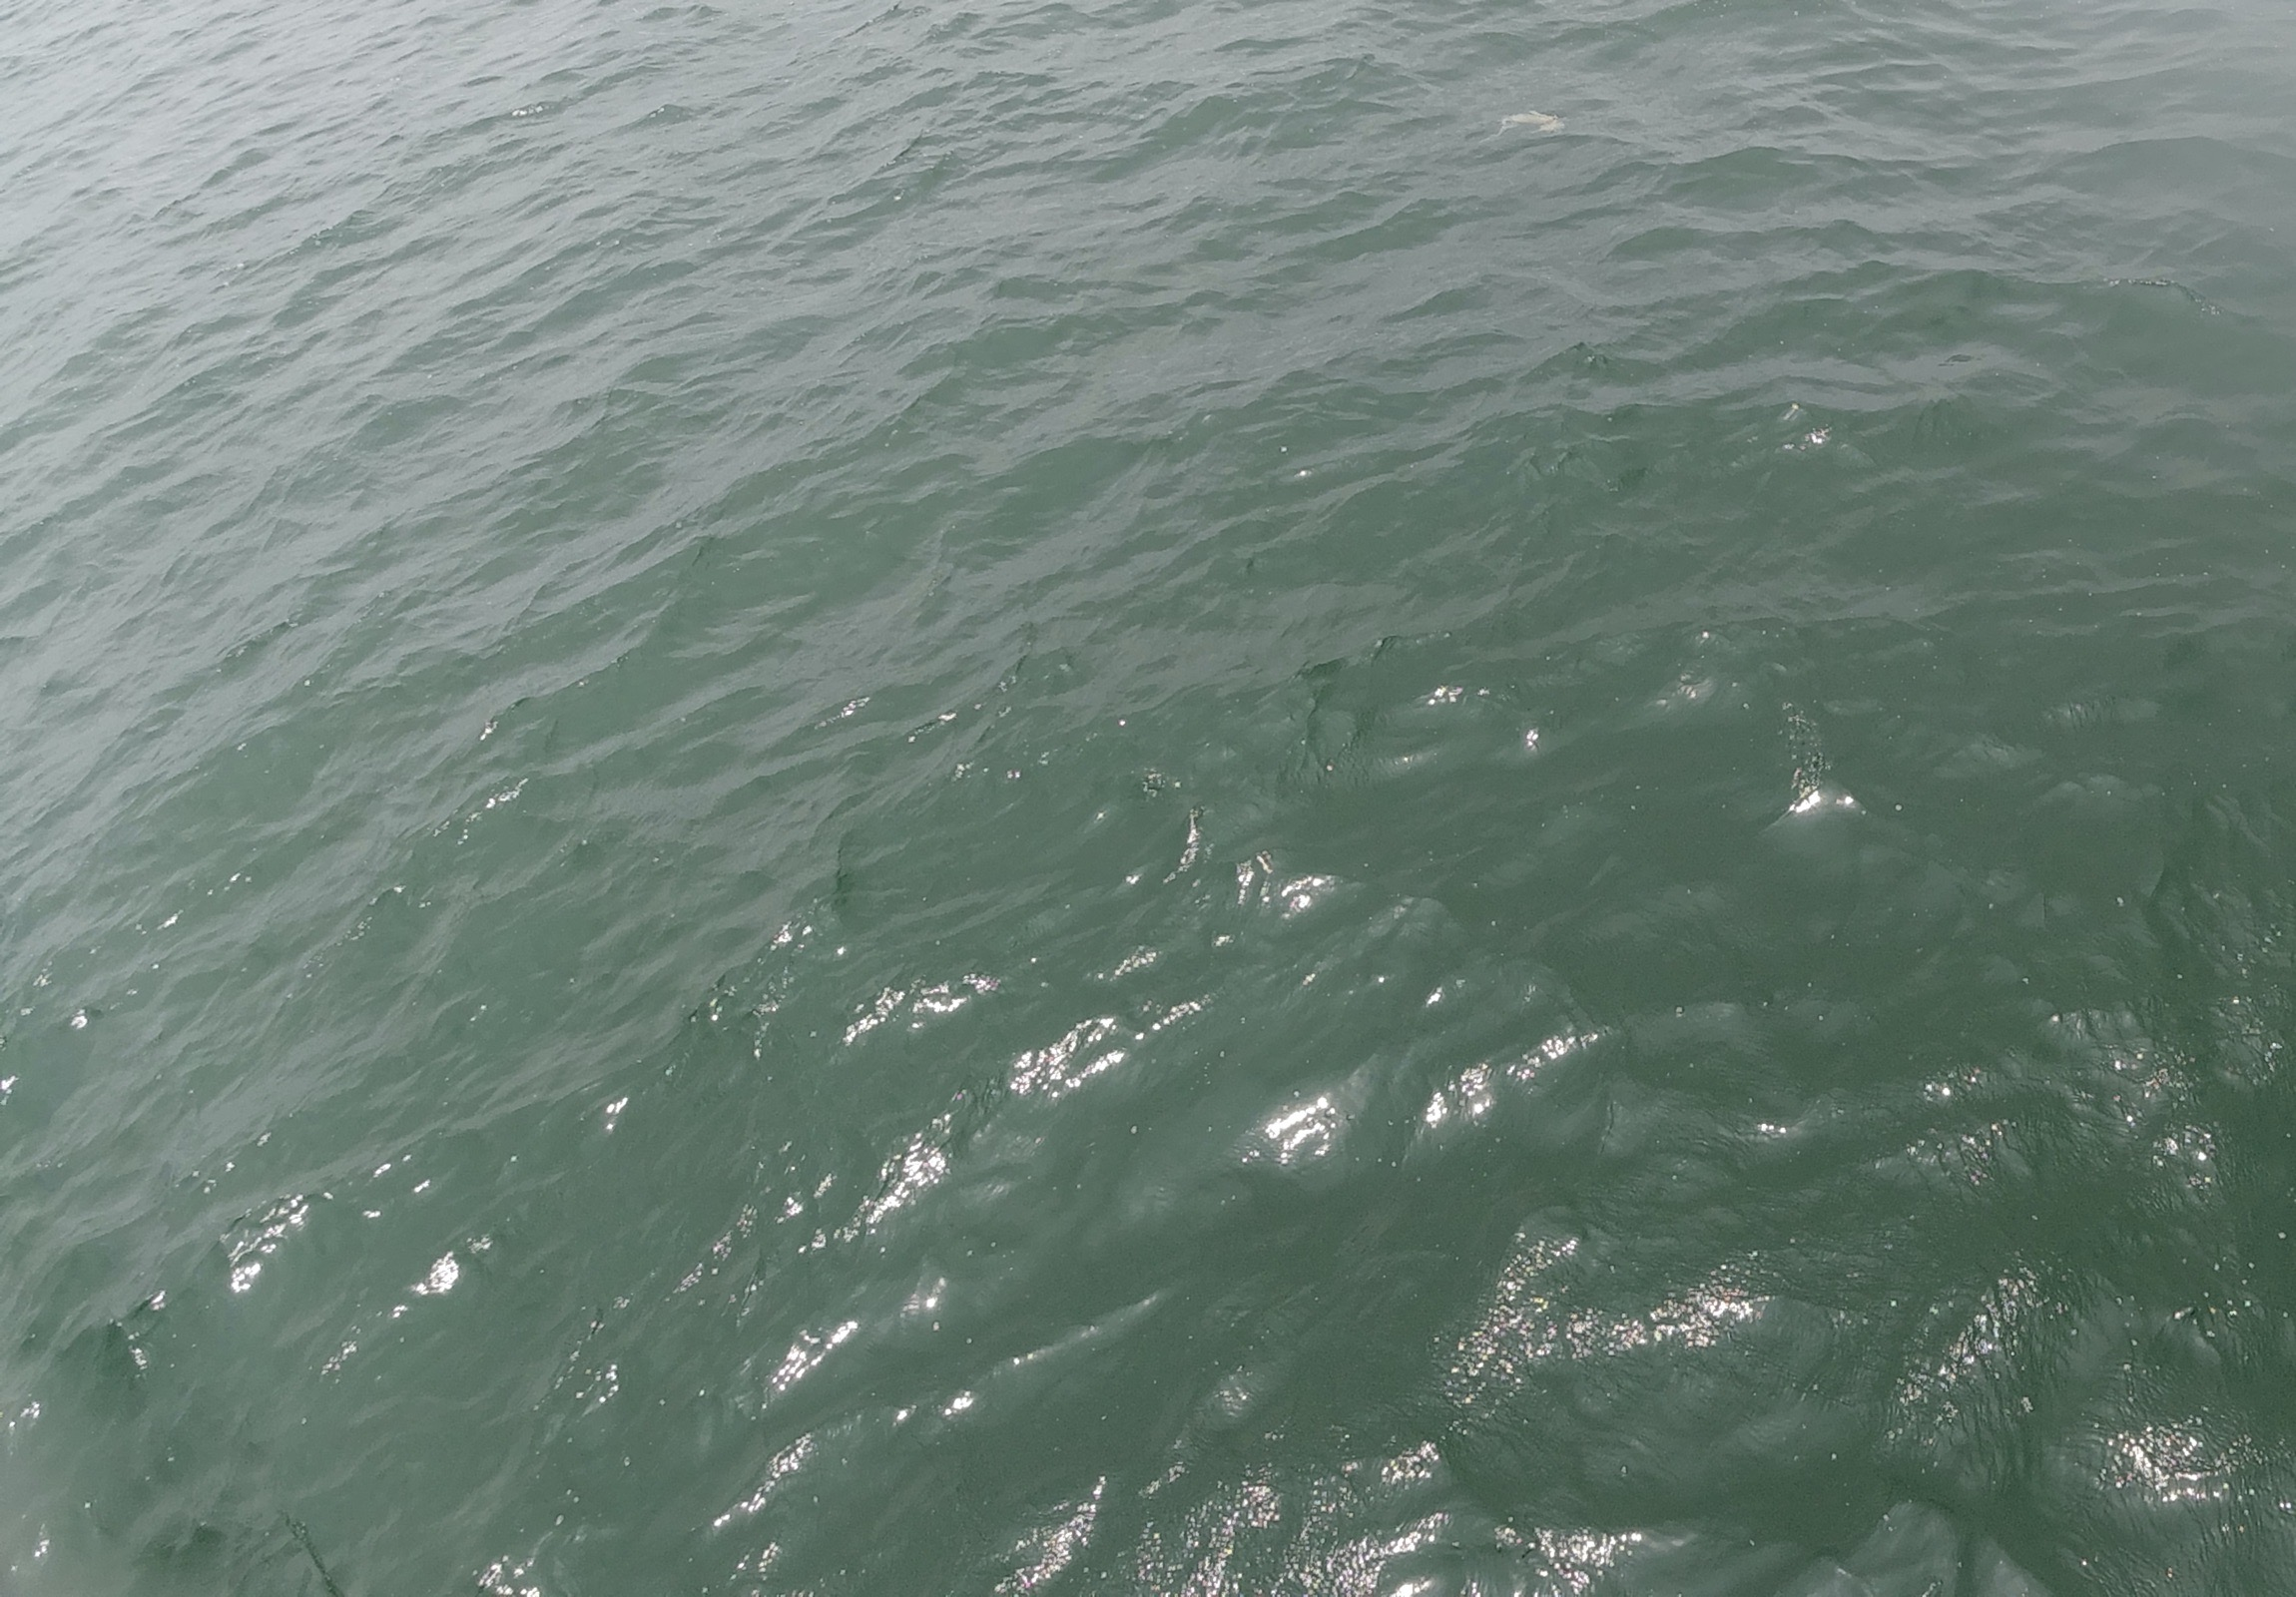plastic: (1467, 103, 1579, 152)
